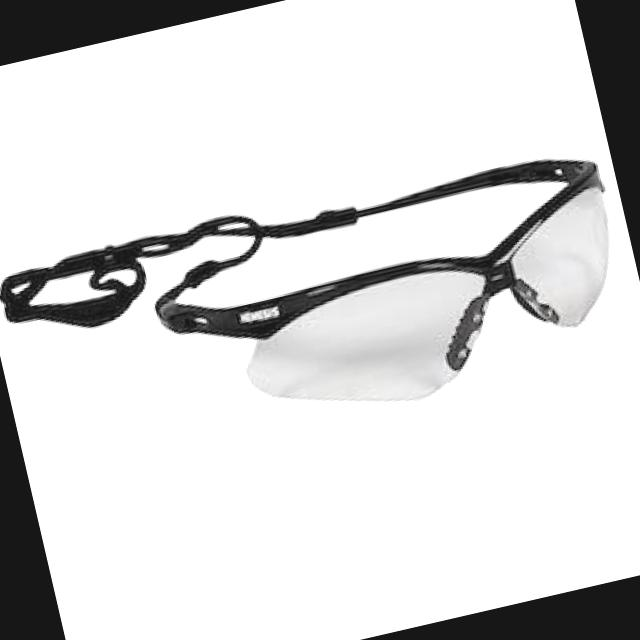goggles: (131, 100, 618, 457)
